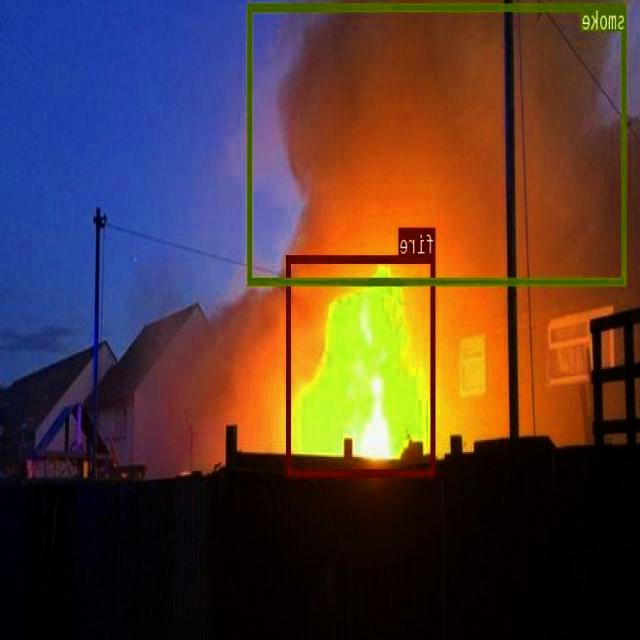fire: (288, 255, 436, 474)
smoke: (249, 2, 627, 284)
